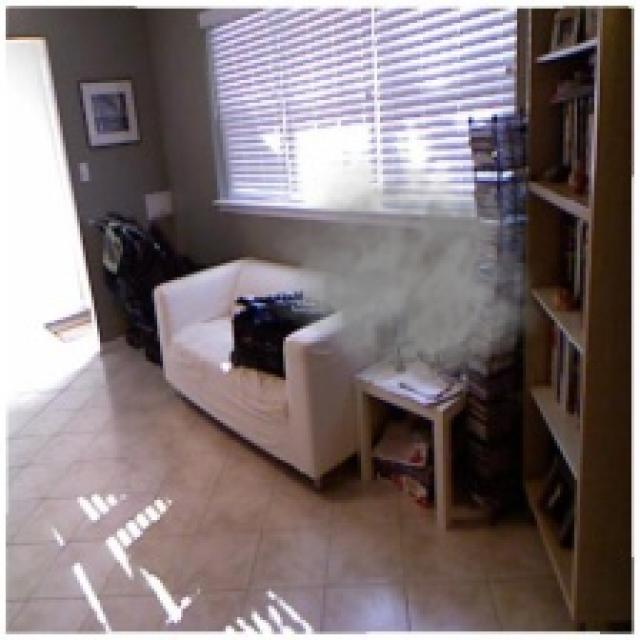smoke: (266, 152, 543, 392)
